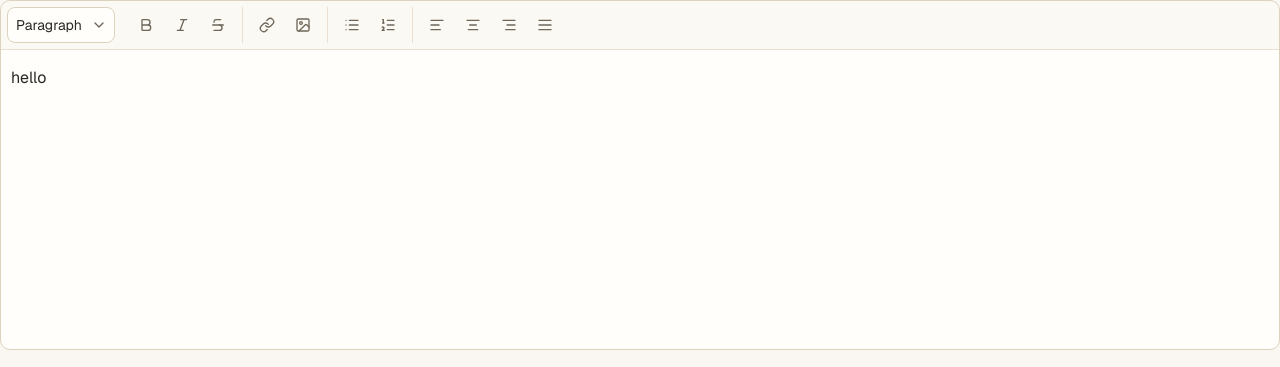
Test: Tiptap toolbar › shows an inline error and keeps the panel open when the url is refused
The image size is (1280, 367).
Step 1. Click the button named "Add or edit a link" → x=267, y=25, box left=249, top=7, right=285, bottom=43
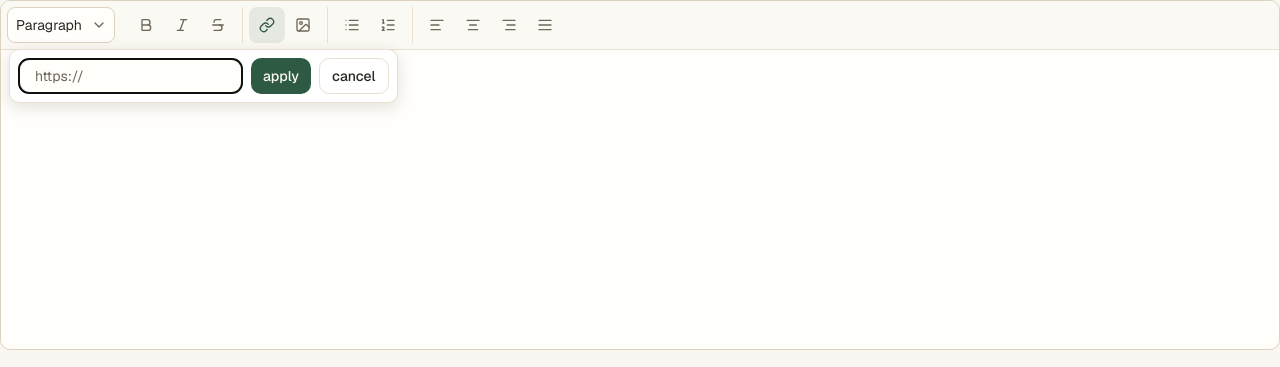
Step 2. Type "javascript:alert(1)" into the field named "link url" → x=130, y=76, box left=18, top=58, right=243, bottom=94
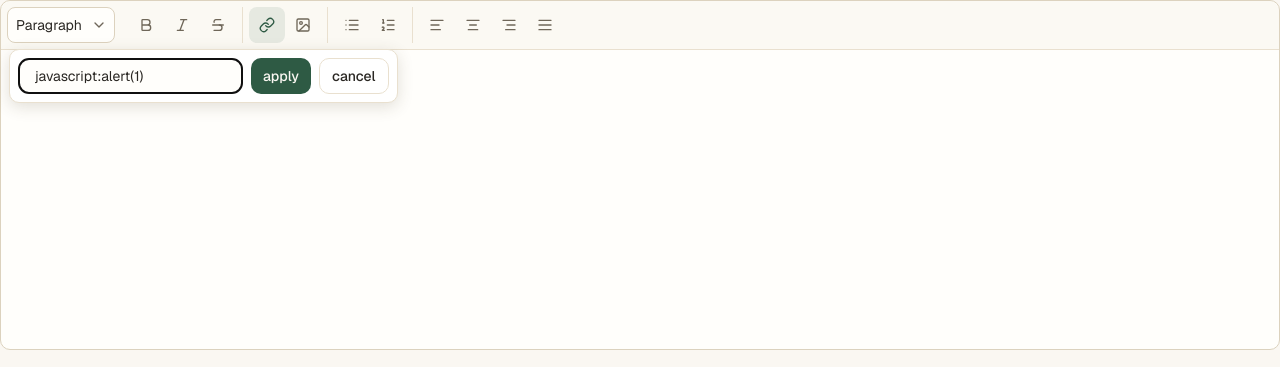
Step 3. Click the button "apply" → x=281, y=76, box left=251, top=58, right=311, bottom=94
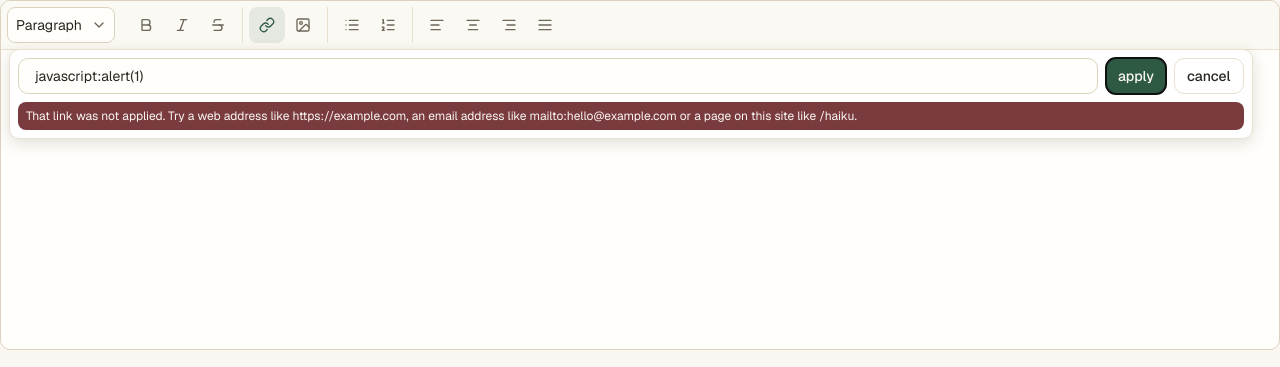
Check: the message shows "That link was not applied. Try", box left=26, top=108, right=857, bottom=124
Check: the message shows "https://example.com", box left=26, top=108, right=857, bottom=124
Check: the message shows "mailto:hello@example.com", box left=26, top=108, right=857, bottom=124
